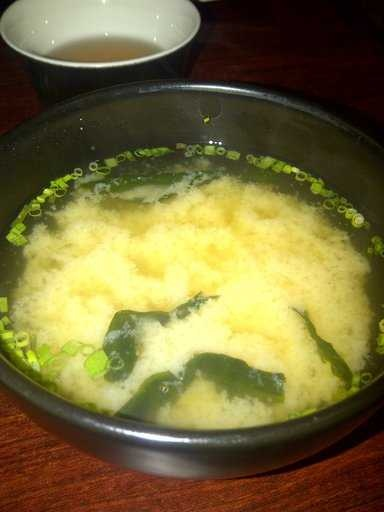soup: (1, 113, 375, 421)
